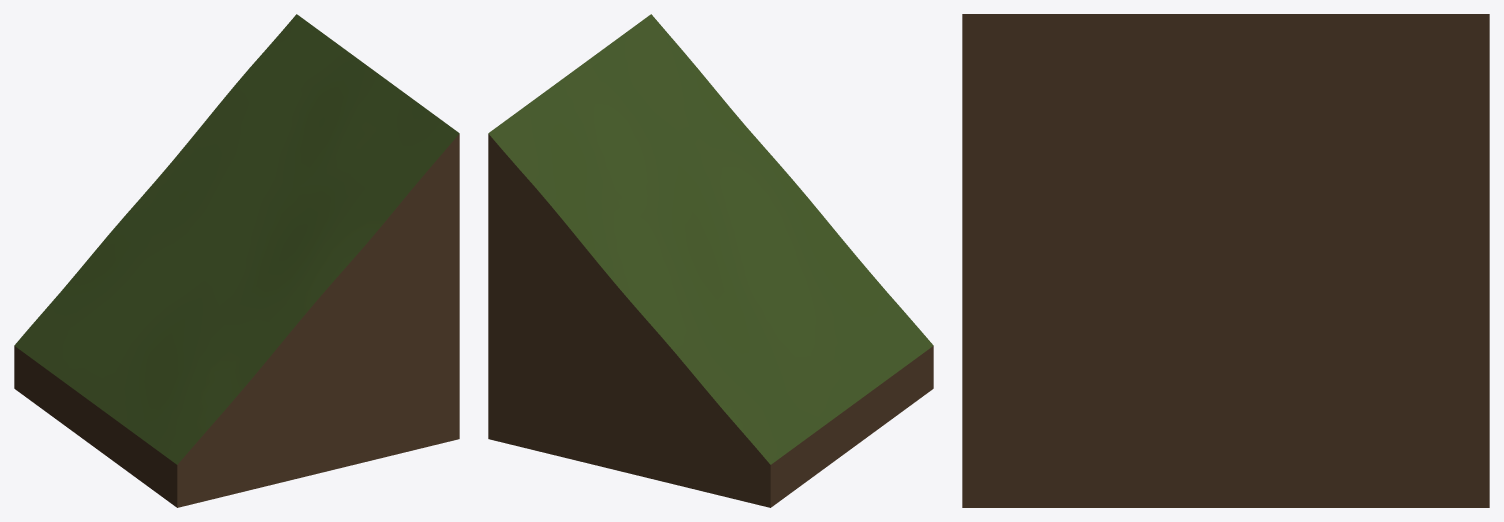
3 views of the same model, side by side, from view 1: azimuth 30°, elevation 25°; view 2: azimuth 150°, elevation 25°; view 3: azimuth 270°, elevation 25° (orthographic). The views are drawn at different scales.
Parts seen in each view (by area): view 1: b4go; view 2: b4go; view 3: b4go.
Boxes of the visible parts, x1,y1,x2,y2 form: b4go: (14,14,459,507); b4go: (488,14,933,507); b4go: (962,14,1489,507).
Size of the model in its own units: 9 by 9.31 by 9.
